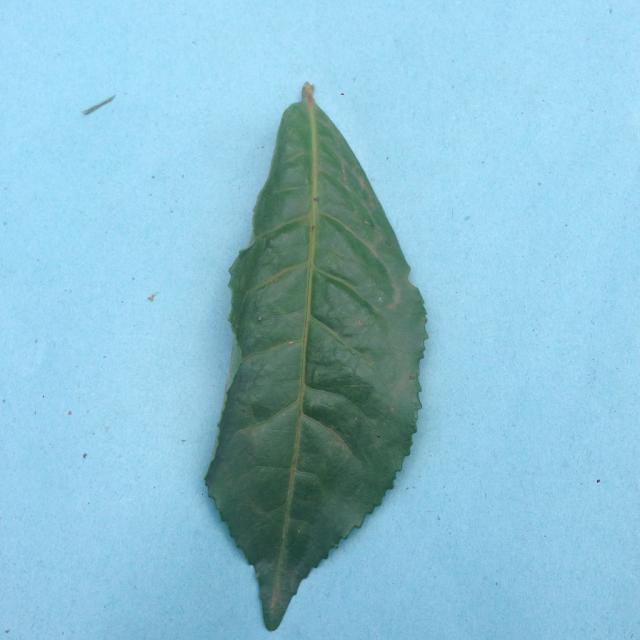Healthy: (170, 42, 468, 640)
